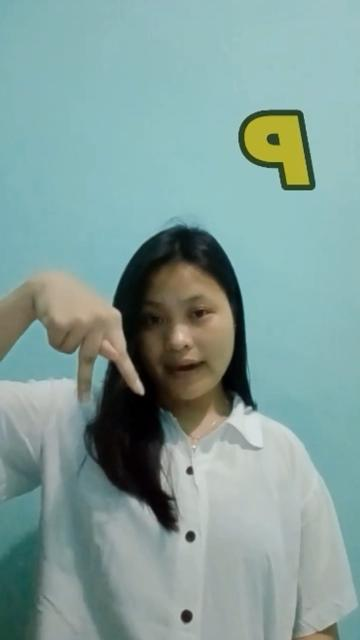P: (26, 268, 144, 408)
